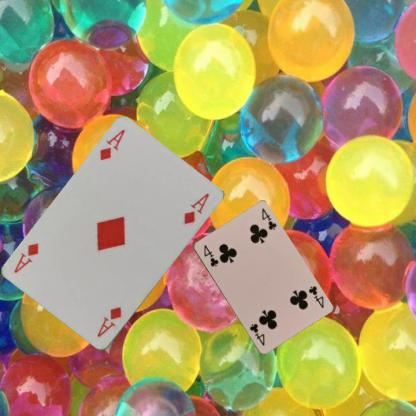4c: (201, 242, 220, 268), (306, 283, 324, 309)
Ad: (97, 126, 127, 162), (94, 305, 123, 339)
